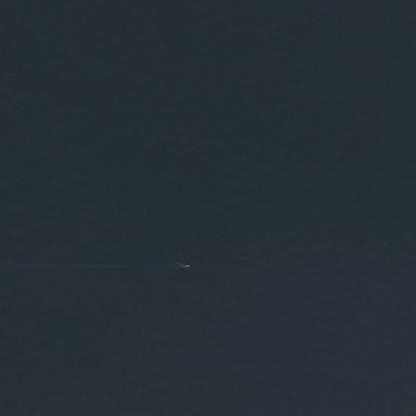ship: (0, 262, 4, 269)
